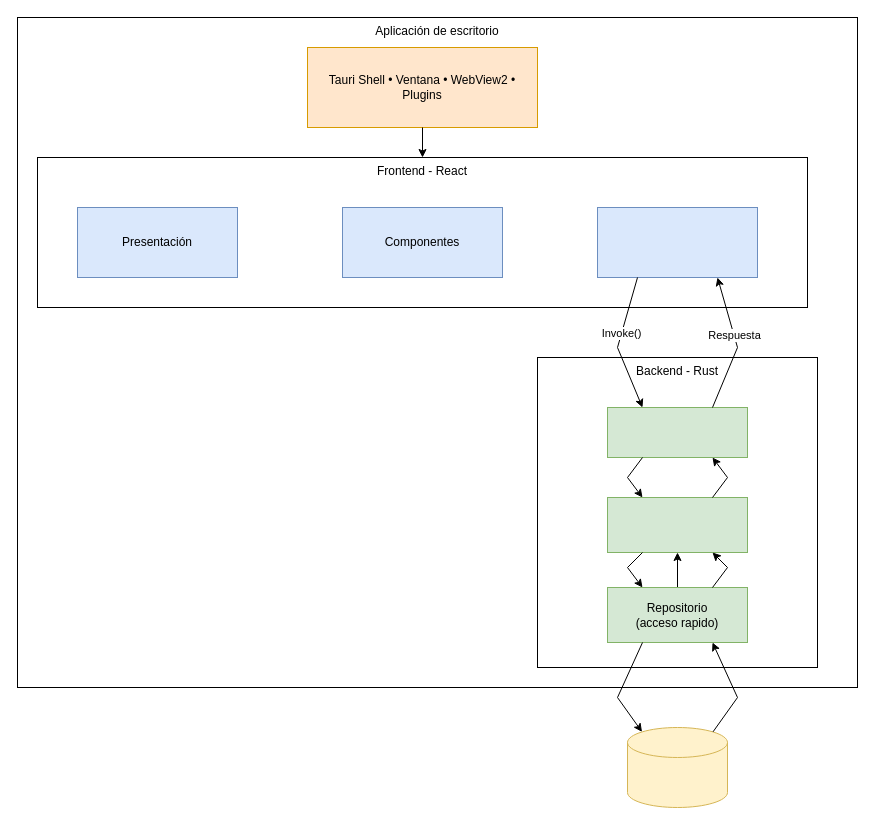
This 875x825 diagram has some shape labels left out. The shapes that lost their labels are listed below. From the top down, each one's centre as x and y in pixels, then its label:
[677,242]: Lógica de la aplicación (Hooks, Context, Estado)
[677,432]: Comandos Tauri
[677,524]: Logica de datos
[677,767]: SQlite
